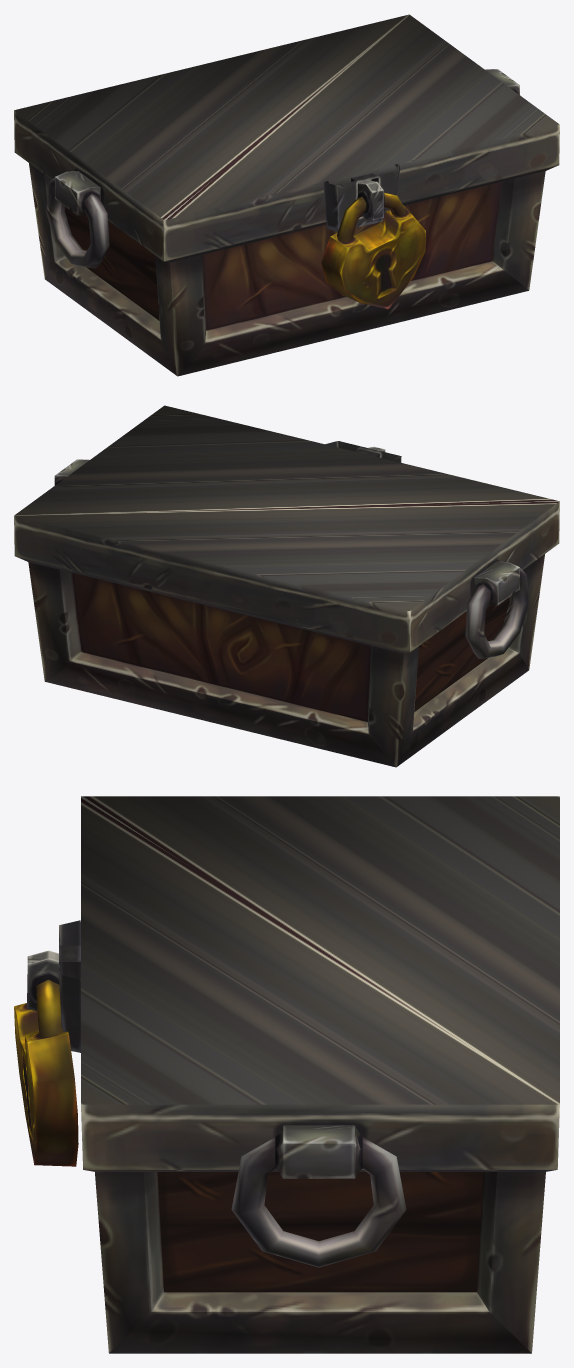
The model's file is chest_close456.fbx.
The picture shows the model from 3 angles, top to bottom: view 1: azimuth 30°, elevation 25°; view 2: azimuth 150°, elevation 25°; view 3: azimuth 270°, elevation 25°; orthographic projection. The views are drawn at different scales.
Parts seen in each view (by area): view 1: chest_close.003; view 2: chest_close.003; view 3: chest_close.003.
Part boxes in pixels (x1,y1,x2,y2): chest_close.003: [14, 14, 559, 376]; chest_close.003: [14, 405, 559, 767]; chest_close.003: [14, 796, 559, 1353].
Bounding box in the file's own units: 72.38 × 26.21 × 48.57.
